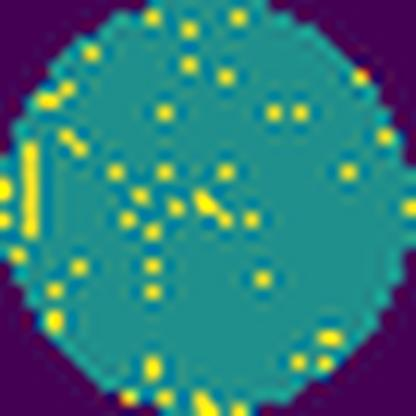Scratch: (16, 137, 42, 240)
